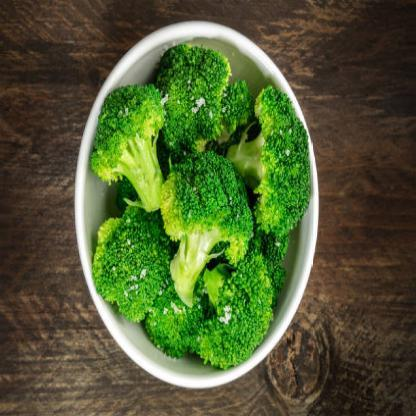broccoli: (89, 41, 314, 376)
